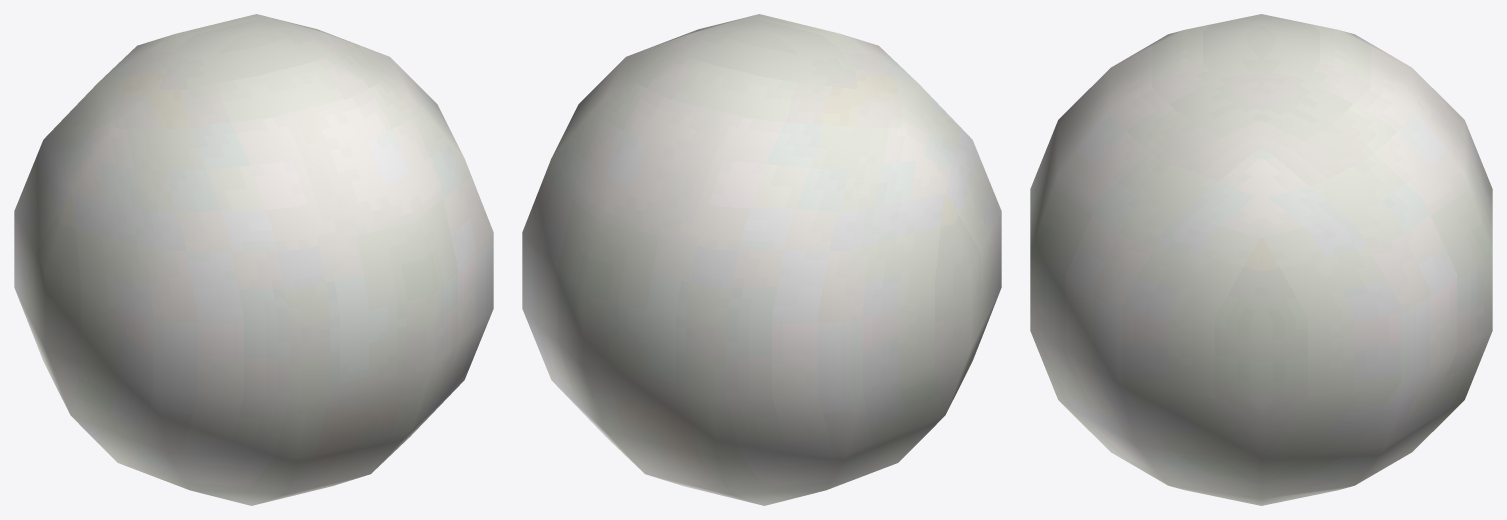
File: dragon_pearl_l0.fbx
The picture shows the model from 3 angles, left to right: view 1: azimuth 30°, elevation 25°; view 2: azimuth 150°, elevation 25°; view 3: azimuth 270°, elevation 25°; orthographic projection.
Parts seen in each view (by area): view 1: mesh_node; view 2: mesh_node; view 3: mesh_node.
Part boxes in pixels (x1,y1,x2,y2): mesh_node: (14,14,493,505); mesh_node: (522,14,1001,505); mesh_node: (1030,14,1492,505).
Bounding box in the file's own units: 0.2422 × 0.2459 × 0.2303.
1 material, 1 textured.
